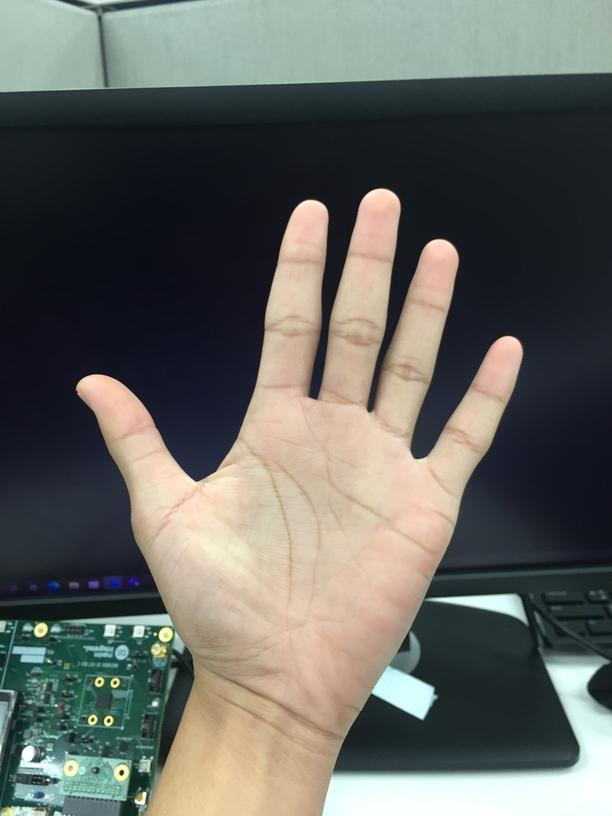hand: (72, 186, 525, 724)
